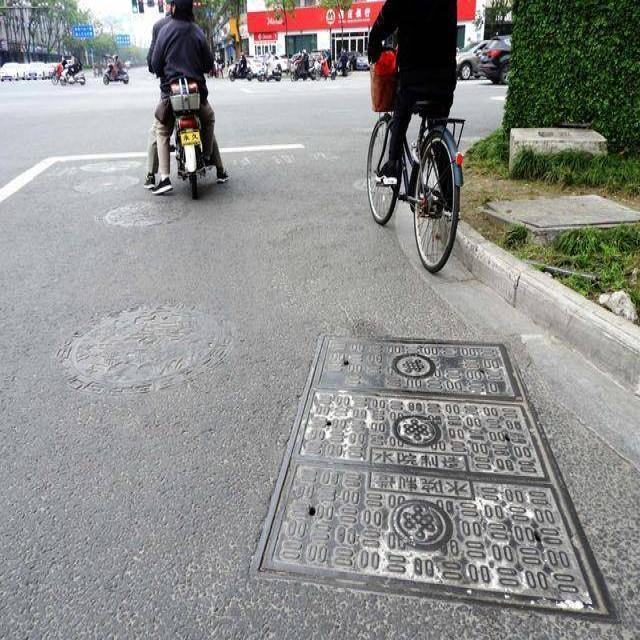manhole: (256, 338, 604, 612)
